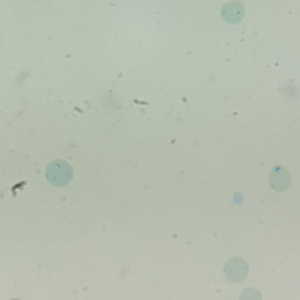erythrocyte: (220, 1, 247, 26), (268, 165, 292, 192)
punctate reticulocyte: (44, 158, 75, 188), (223, 256, 251, 284)
